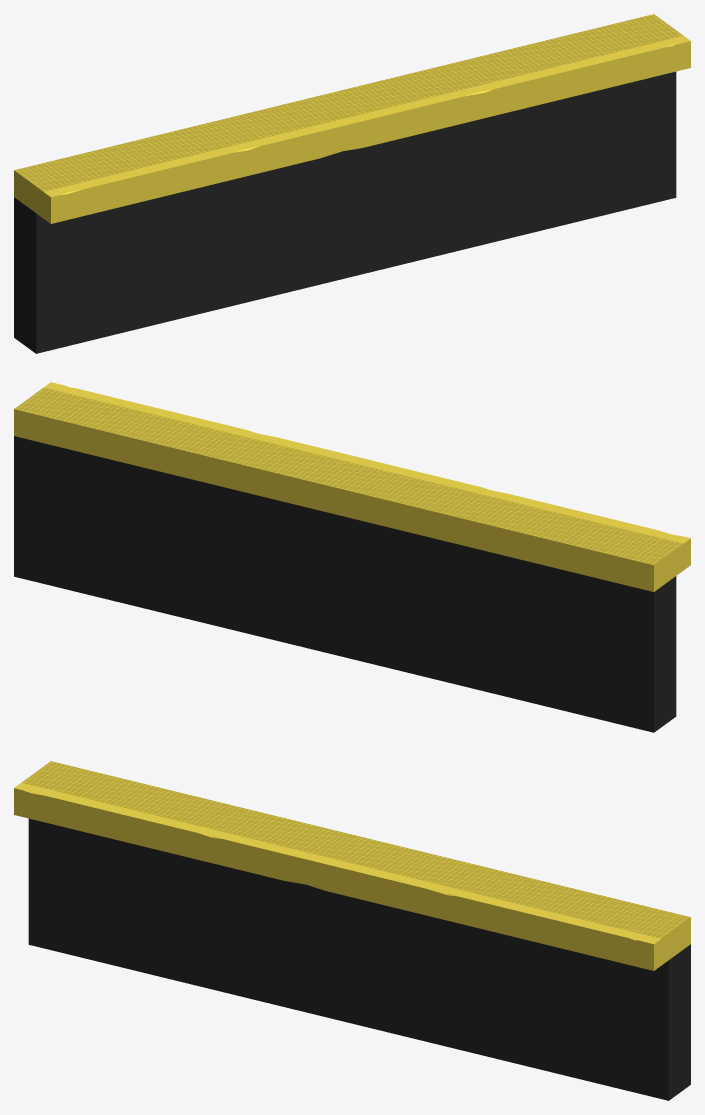
The model's file is SW_ENV_PlatformEdge_A.fbx.
The picture shows the model from 3 angles, top to bottom: view 1: azimuth 30°, elevation 25°; view 2: azimuth 150°, elevation 25°; view 3: azimuth 330°, elevation 25°; orthographic projection.
Visible parts, largest first — view 1: SW_ENV_PlatformEdge_A; view 2: SW_ENV_PlatformEdge_A; view 3: SW_ENV_PlatformEdge_A.
Part boxes in pixels (x1=…): SW_ENV_PlatformEdge_A: x1=14, y1=14, x2=690, y2=353; SW_ENV_PlatformEdge_A: x1=14, y1=382, x2=690, y2=732; SW_ENV_PlatformEdge_A: x1=14, y1=761, x2=690, y2=1100.
Bounding box in the file's own units: 500 × 125 × 50.
